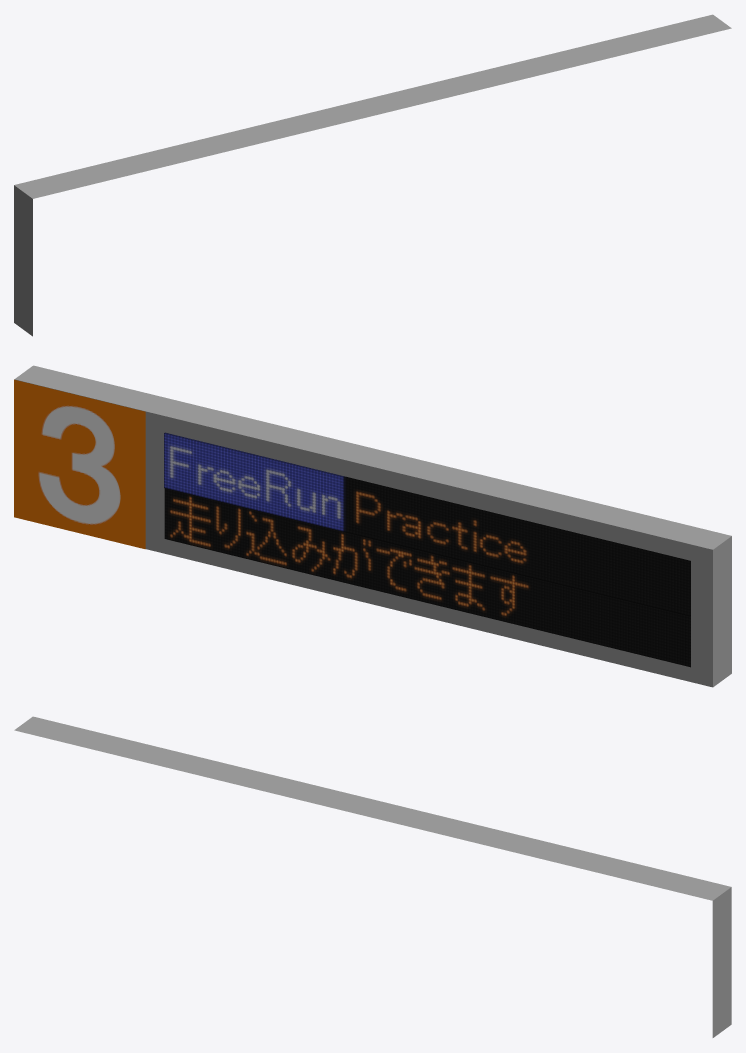
File: MENU03.glb
The picture shows the model from 3 angles, top to bottom: view 1: azimuth 30°, elevation 25°; view 2: azimuth 150°, elevation 25°; view 3: azimuth 330°, elevation 25°; orthographic projection.
Parts seen in each view (by area): view 1: BOX3; view 2: BOX3, Btl_E2; view 3: BOX3.
Boxes of the visible parts, <box> form: BOX3: <box>14,14,731,336</box>; BOX3: <box>14,365,731,687</box>; Btl_E2: <box>164,433,690,616</box>; BOX3: <box>14,716,731,1037</box>.
Size of the model in its own units: 26.55 by 5 by 1.35.
Materials: 5 (5 with a texture image).
